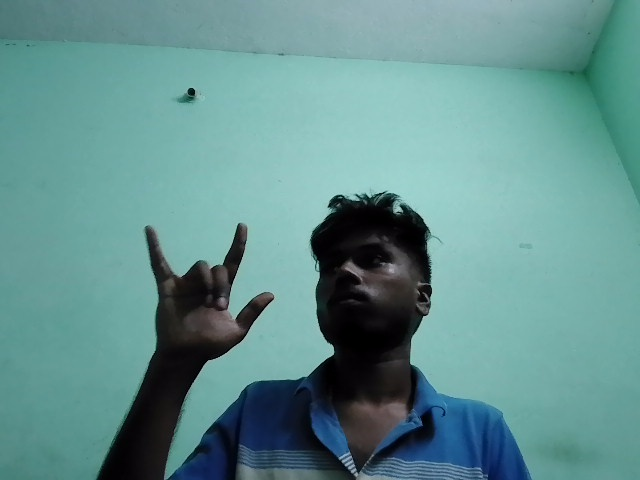I Love You: (117, 197, 312, 404)
